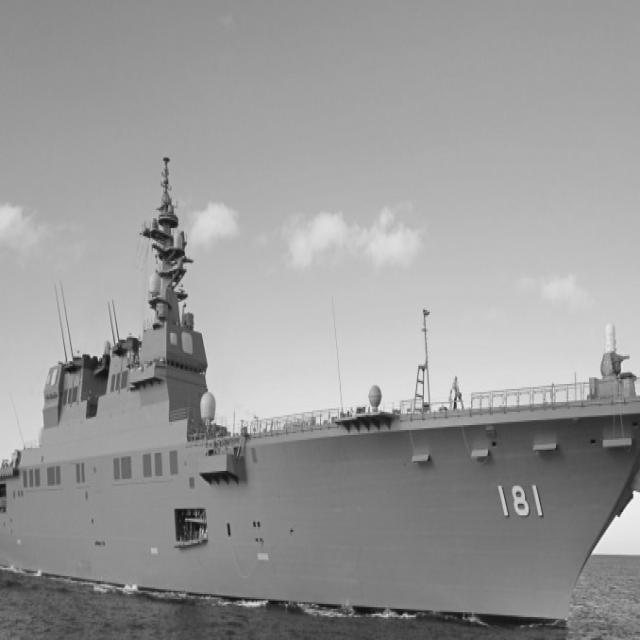Portanaves: (1, 149, 640, 633)
